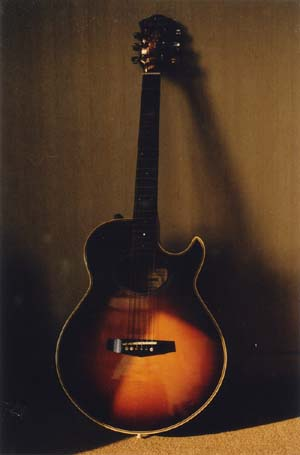guitar: (54, 13, 230, 439)
